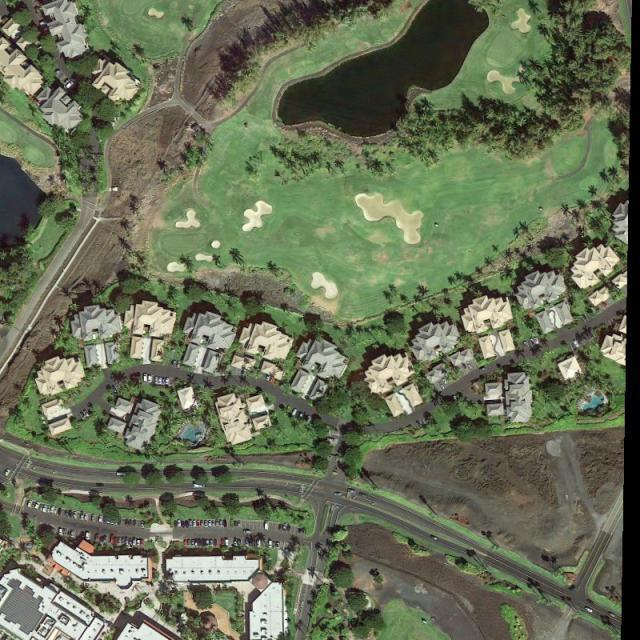vehicle: (66, 81, 74, 90), (466, 362, 474, 371), (585, 606, 594, 614), (359, 492, 369, 499), (573, 340, 580, 350), (291, 408, 298, 418), (54, 69, 62, 77), (438, 382, 446, 390), (4, 469, 11, 478), (111, 385, 118, 394), (347, 489, 357, 495), (38, 504, 45, 512), (27, 500, 34, 508), (64, 78, 71, 86), (39, 20, 47, 27), (523, 341, 530, 349), (298, 413, 304, 422), (286, 524, 292, 533), (257, 538, 262, 548), (35, 502, 41, 510), (31, 502, 37, 510), (430, 536, 438, 542), (530, 338, 536, 346), (608, 612, 616, 618), (194, 484, 206, 488), (84, 410, 90, 418), (282, 524, 288, 532), (148, 375, 153, 384), (57, 507, 62, 516), (54, 506, 59, 515), (177, 519, 182, 528), (453, 394, 458, 402), (141, 521, 146, 529), (62, 528, 67, 536), (70, 530, 75, 538), (95, 534, 100, 542), (50, 506, 55, 514), (46, 506, 51, 514), (65, 510, 70, 518), (84, 513, 89, 521), (117, 472, 127, 476), (479, 367, 487, 372), (193, 520, 198, 528), (270, 376, 275, 384), (266, 374, 271, 382), (133, 519, 137, 528), (126, 518, 130, 527), (118, 517, 122, 526), (144, 374, 148, 383), (110, 534, 114, 543), (86, 532, 90, 541), (1, 634, 7, 640), (1, 630, 5, 639), (223, 519, 227, 528), (265, 521, 269, 530), (202, 538, 206, 547), (58, 529, 63, 536), (81, 412, 86, 419), (42, 505, 47, 512), (177, 362, 182, 369), (140, 539, 144, 547), (137, 539, 141, 547), (133, 538, 137, 546), (129, 538, 133, 546), (82, 531, 86, 539), (114, 517, 118, 525), (110, 517, 114, 525), (104, 516, 108, 524), (69, 510, 73, 518), (91, 514, 95, 522), (159, 378, 163, 386), (269, 541, 273, 549), (246, 538, 250, 546), (166, 378, 170, 386), (221, 538, 225, 546), (186, 520, 190, 528), (182, 520, 186, 528), (244, 530, 252, 534), (187, 539, 191, 547), (206, 540, 210, 548), (198, 539, 202, 547), (334, 492, 342, 496), (118, 538, 122, 545), (226, 539, 230, 546), (234, 520, 238, 527), (219, 520, 223, 527), (212, 520, 216, 527), (197, 520, 201, 527), (238, 520, 242, 527), (214, 540, 218, 547), (210, 540, 214, 547), (194, 539, 198, 546), (81, 511, 84, 520), (155, 376, 158, 385), (190, 519, 193, 528), (130, 519, 133, 527), (126, 538, 129, 546), (100, 536, 104, 542), (107, 516, 110, 524), (5, 636, 11, 640), (73, 512, 77, 518), (99, 515, 102, 523), (163, 378, 166, 386), (234, 538, 237, 546), (273, 542, 276, 550), (205, 520, 209, 526), (191, 539, 194, 547), (184, 539, 187, 547), (279, 525, 283, 531), (122, 538, 125, 545), (104, 535, 107, 542), (238, 539, 241, 546), (216, 520, 219, 527), (115, 538, 118, 544), (209, 520, 212, 526), (201, 520, 204, 526)
